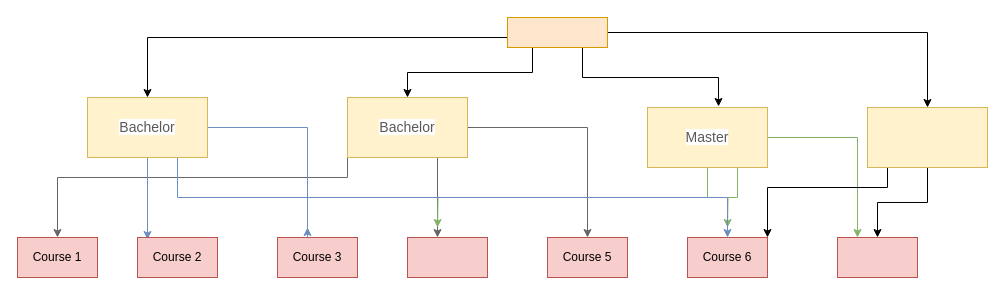
This 1005x295 diagram has some shape labels left out. The shapes that lost their labels are listed below. From the top down, each one's centre as x and y in pixels, then its label:
At [557,32]: "University".
At [927,137]: "Doctoral".
At [447,257]: "Course 4".
At [877,257]: "Course 7".
